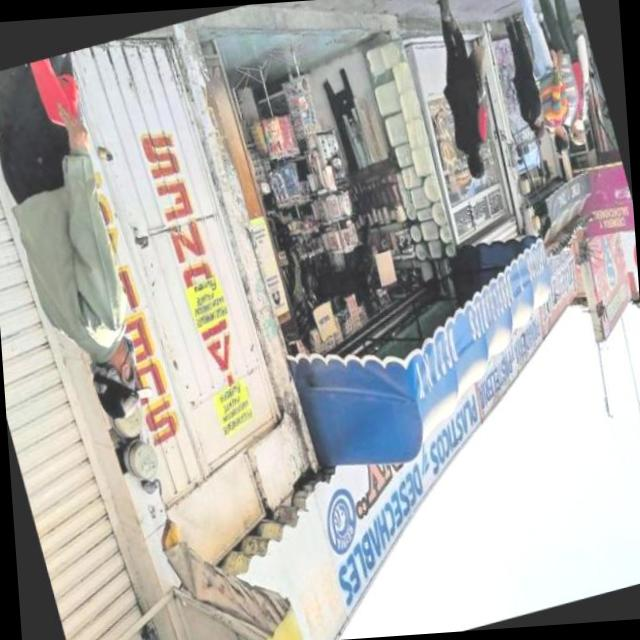person: (0, 44, 182, 453), (409, 0, 514, 200), (523, 0, 620, 173), (493, 0, 580, 167)
